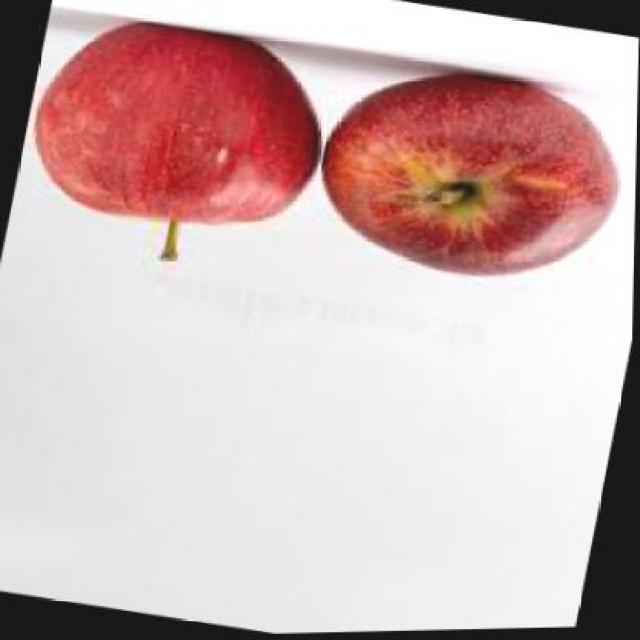Fresh Apple: (312, 78, 617, 280), (40, 18, 312, 231)
